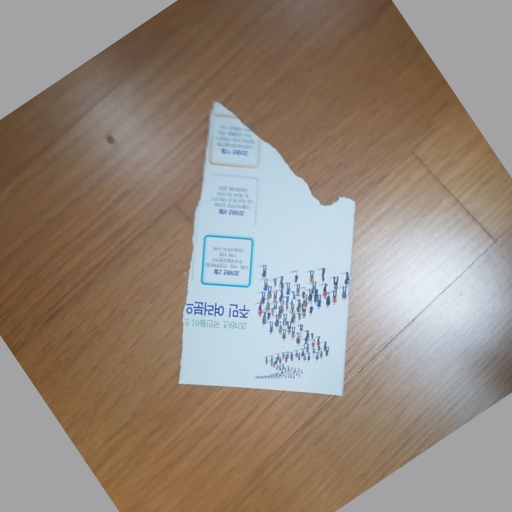Paper_2: (170, 208, 385, 449)
